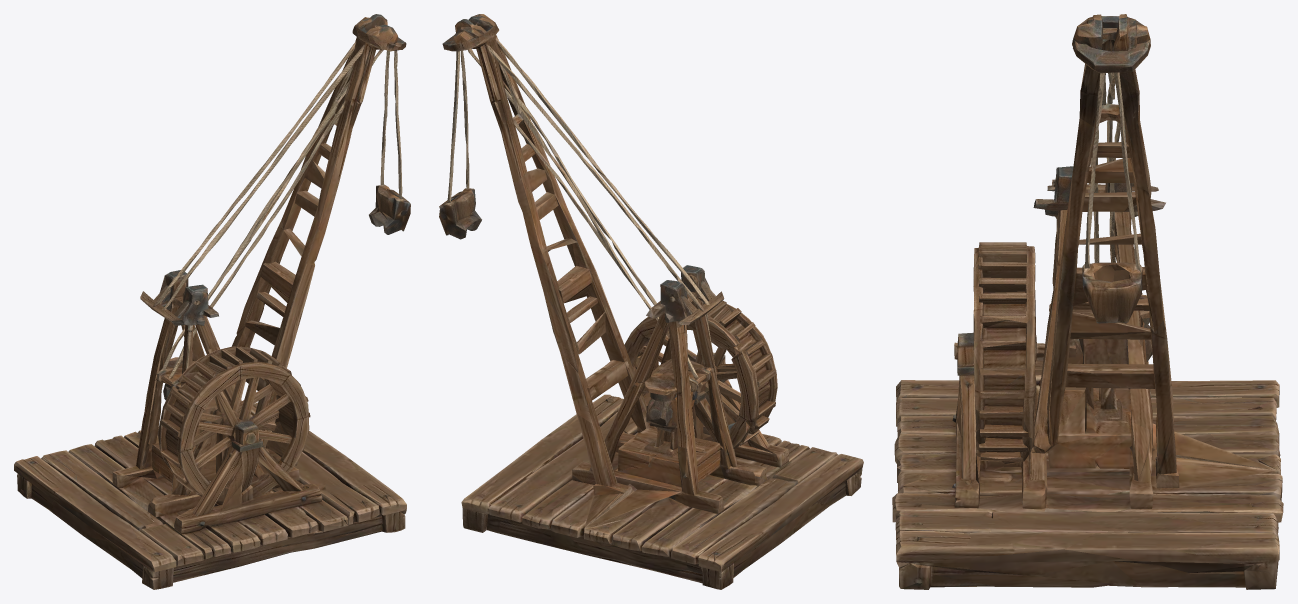
File: crane.glb
3 views of the same model, side by side, from view 1: azimuth 30°, elevation 25°; view 2: azimuth 150°, elevation 25°; view 3: azimuth 270°, elevation 25° (orthographic). The views are drawn at different scales.
Parts seen in each view (by area): view 1: crane; view 2: crane; view 3: crane.
Part boxes in pixels (x1,y1,x2,y2): crane: (14, 14, 410, 589); crane: (439, 14, 863, 589); crane: (892, 14, 1283, 589).
Size of the model in its own units: 8.59 by 11 by 6.42.
Materials: 1 (1 with a texture image).
